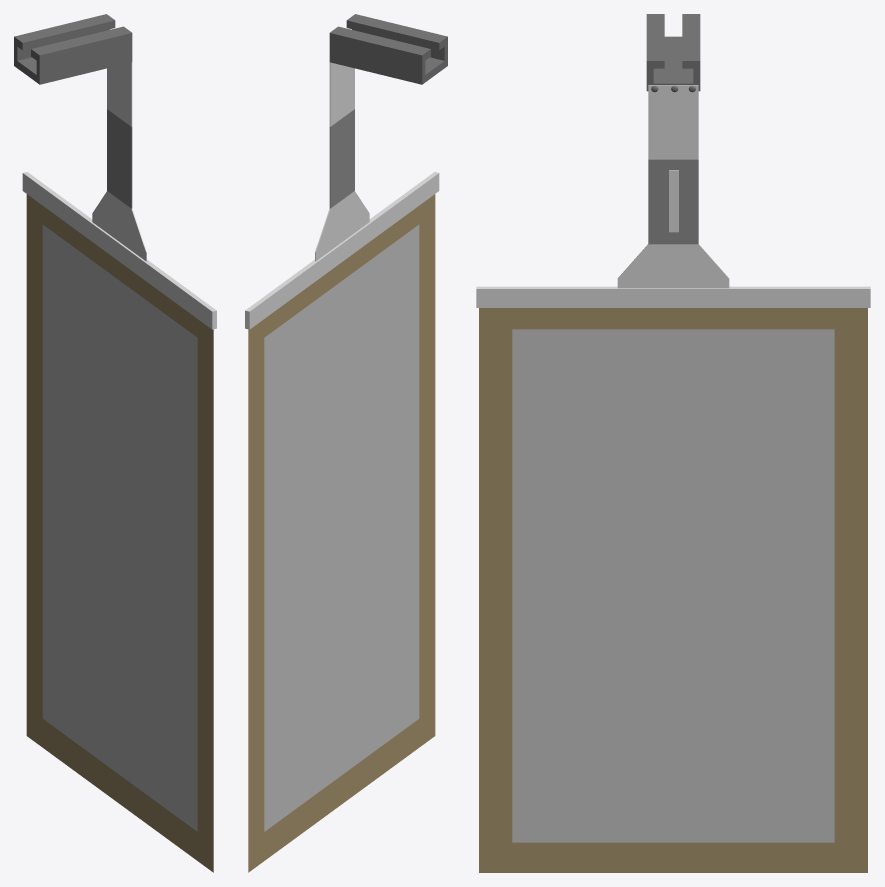
File: Target 1.fbx
3 renders of one model, left to right at view 1: azimuth 30°, elevation 25°; view 2: azimuth 150°, elevation 25°; view 3: azimuth 270°, elevation 25°, orthographic. The views are drawn at different scales.
Parts seen in each view (by area): view 1: Target 1; view 2: Target 1; view 3: Target 1.
Part boxes in pixels (x1=…): Target 1: x1=14, y1=14, x2=216, y2=872; Target 1: x1=245, y1=14, x2=447, y2=872; Target 1: x1=476, y1=14, x2=870, y2=872.
Size of the model in its own units: 20.55 by 161 by 70.94.
